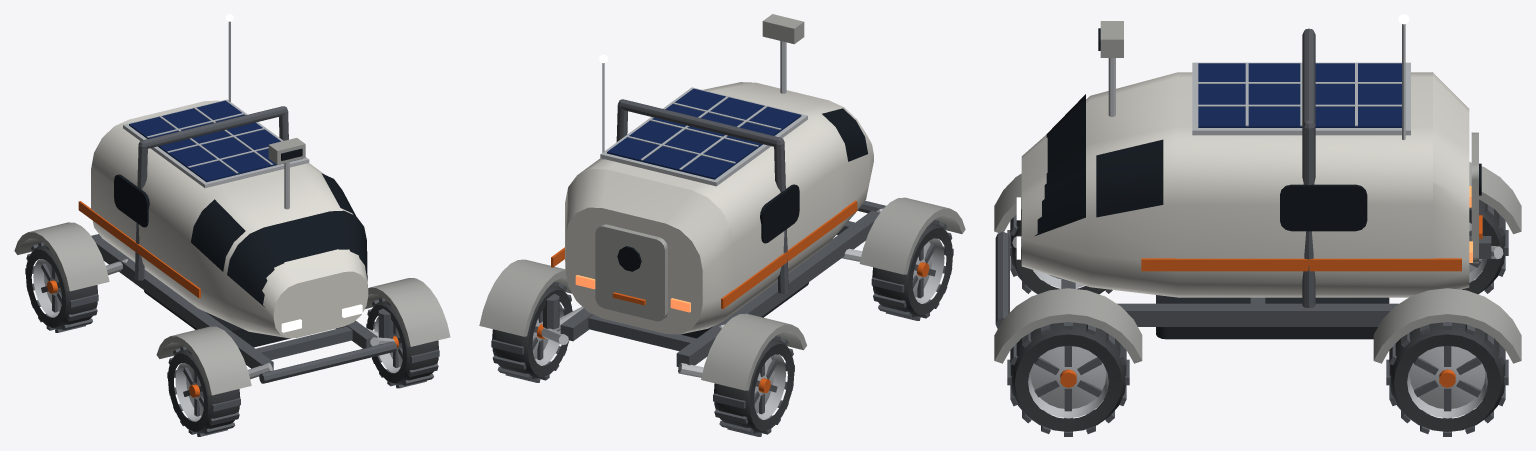
Rendered from rover_scout.glb.
The picture shows the model from 3 angles, left to right: view 1: azimuth 30°, elevation 25°; view 2: azimuth 150°, elevation 25°; view 3: azimuth 270°, elevation 25°; orthographic projection. The views are drawn at different scales.
Parts seen in each view (by area): view 1: body, wheel_rr, wheel_fr, wheel_fl; view 2: body, hatch, wheel_fr, wheel_rr, wheel_rl; view 3: body, wheel_fl, wheel_rl, wheel_rr, wheel_fr, hatch.
Boxes of the visible parts, <box> form: body: <box>14,14,450,395</box>; wheel_rr: <box>25,242,98,332</box>; wheel_fr: <box>167,346,240,436</box>; wheel_fl: <box>366,298,439,388</box>; body: <box>479,14,965,390</box>; hatch: <box>595,224,667,321</box>; wheel_fr: <box>871,219,953,320</box>; wheel_rr: <box>713,335,794,436</box>; wheel_rl: <box>491,281,572,382</box>; body: <box>994,14,1521,363</box>; wheel_fl: <box>1007,322,1129,436</box>; wheel_rl: <box>1386,322,1508,436</box>; wheel_rr: <box>1462,199,1508,294</box>; wheel_fr: <box>1007,209,1112,294</box>; hatch: <box>1471,132,1482,263</box>.
Bounding box in the file's own units: 2.52 × 2.9 × 3.61.
